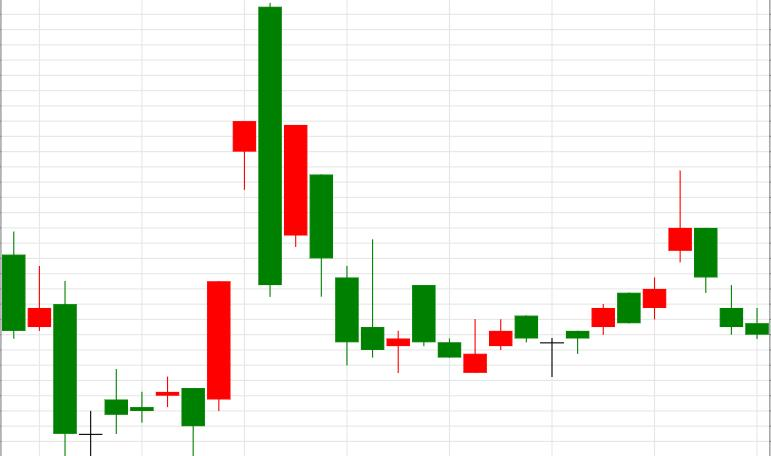bearish_engulfing_fall: (79, 2, 281, 455)
hanging_man_fall: (80, 120, 257, 456)
shooting_star_fall: (541, 171, 692, 377)
